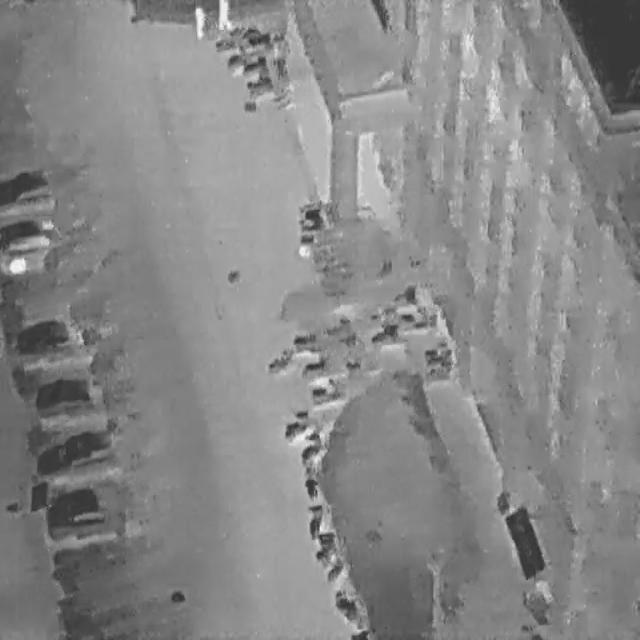Bicycle: (327, 580, 367, 631), (278, 400, 316, 444), (261, 340, 297, 380), (366, 315, 402, 350), (307, 372, 342, 408), (399, 302, 435, 336), (243, 66, 276, 100), (299, 428, 323, 468), (318, 310, 351, 339), (269, 32, 289, 78), (297, 205, 329, 231), (322, 552, 346, 586), (389, 279, 419, 306), (238, 50, 268, 76), (315, 527, 335, 565), (366, 298, 395, 324), (424, 343, 453, 368), (422, 338, 450, 362), (302, 471, 322, 504), (298, 354, 327, 376), (224, 48, 247, 74), (307, 501, 322, 540), (211, 32, 239, 52), (297, 234, 318, 258), (247, 28, 272, 48), (291, 328, 317, 347), (237, 21, 262, 40), (352, 625, 372, 636)
Car: (28, 421, 123, 481), (40, 476, 124, 540), (4, 306, 84, 368), (29, 366, 104, 416), (0, 215, 60, 271), (0, 159, 55, 215)
Person: (216, 0, 232, 31), (194, 2, 206, 38)
